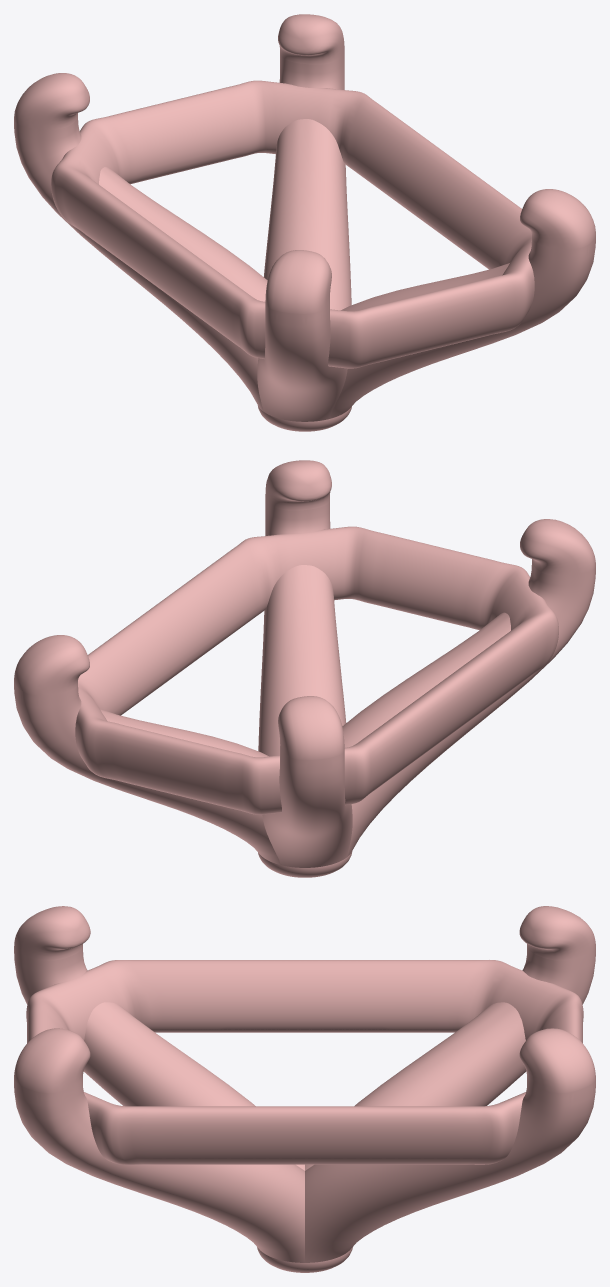
Rendered from EMERALD.glb.
The picture shows the model from 3 angles, top to bottom: view 1: azimuth 30°, elevation 25°; view 2: azimuth 150°, elevation 25°; view 3: azimuth 270°, elevation 25°; orthographic projection.
Visible parts, largest first — view 1: emerald; view 2: emerald; view 3: emerald.
Boxes of the visible parts, x1,y1,x2,y2 form: emerald: [14, 14, 595, 431]; emerald: [14, 460, 595, 877]; emerald: [14, 906, 595, 1272].
Bounding box in the file's own units: 5.12 × 4.3 × 7.8.
